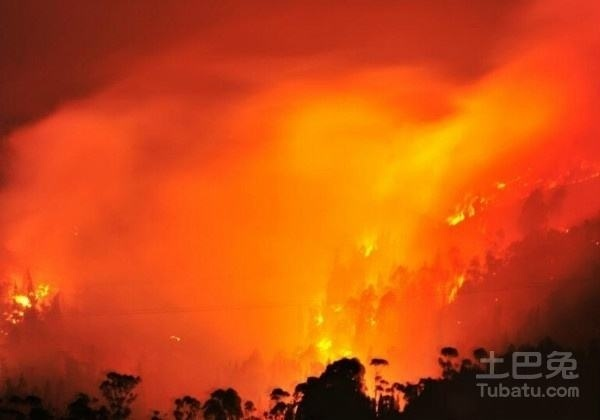fire: (307, 228, 394, 365), (0, 272, 57, 340), (440, 267, 468, 305)
